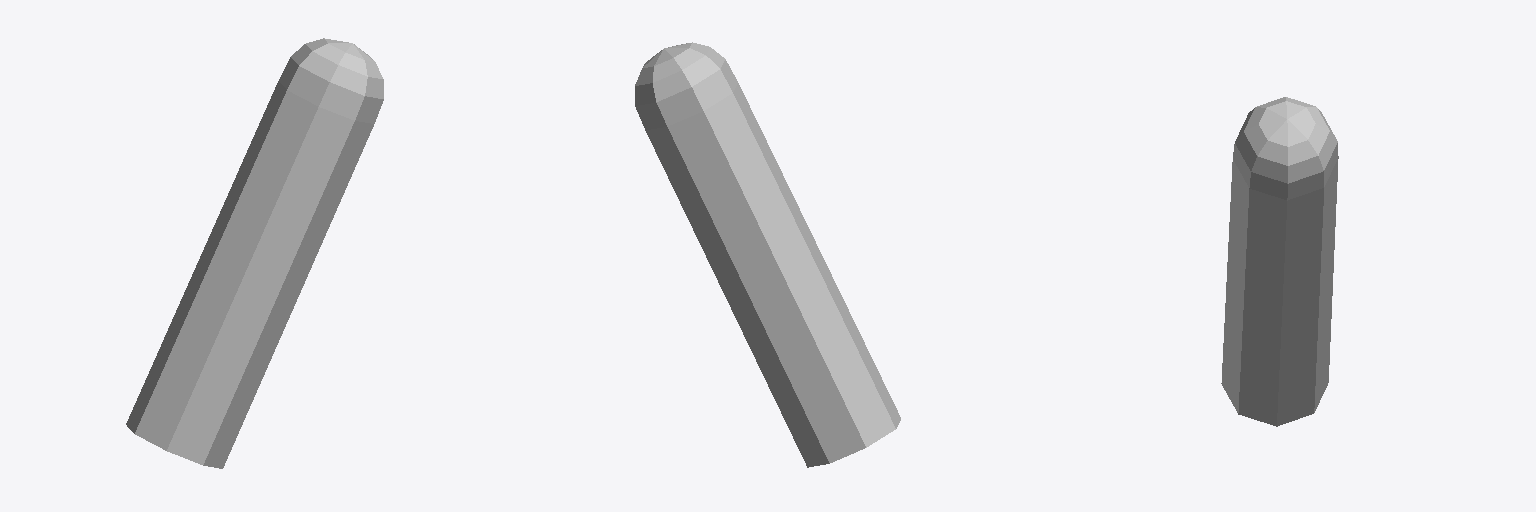
The model's file is leftantenna.obj.
The picture shows the model from 3 angles: view 1: azimuth 30°, elevation 25°; view 2: azimuth 150°, elevation 25°; view 3: azimuth 270°, elevation 25°; orthographic projection.
Visible parts, largest first — view 1: polySurface14 polySurface4 polySurface2 AndroidRobot:Mesh; view 2: polySurface14 polySurface4 polySurface2 AndroidRobot:Mesh; view 3: polySurface14 polySurface4 polySurface2 AndroidRobot:Mesh.
Part boxes in pixels (left/top/right/bottom): polySurface14 polySurface4 polySurface2 AndroidRobot:Mesh: left=126, top=38, right=383, bottom=468; polySurface14 polySurface4 polySurface2 AndroidRobot:Mesh: left=635, top=42, right=900, bottom=467; polySurface14 polySurface4 polySurface2 AndroidRobot:Mesh: left=1221, top=97, right=1338, bottom=426.
Size of the model in its own units: 0.2733 by 0.4013 by 0.111.